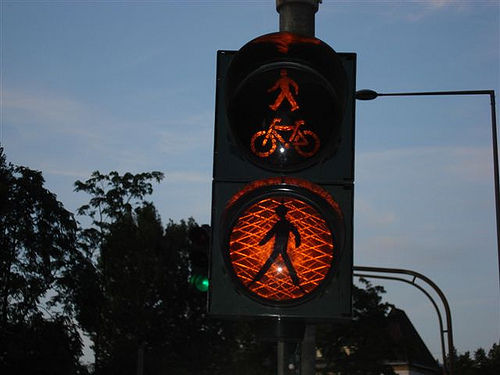Traffic light: (214, 32, 358, 313)
